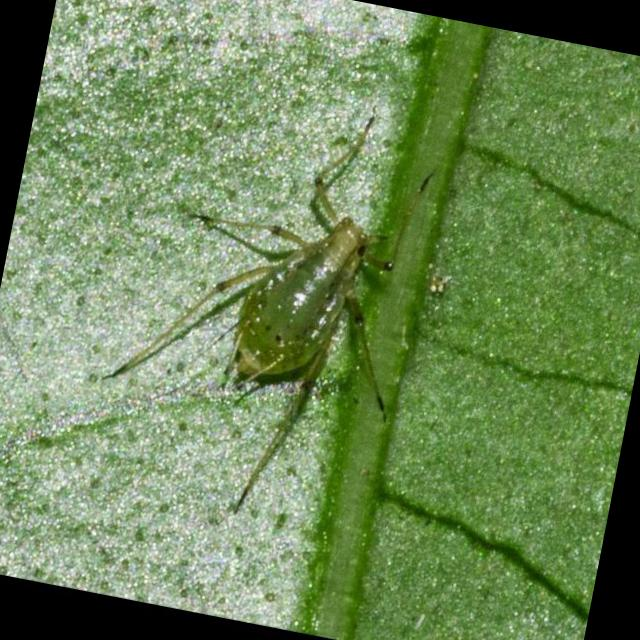aphid: (129, 120, 442, 508)
